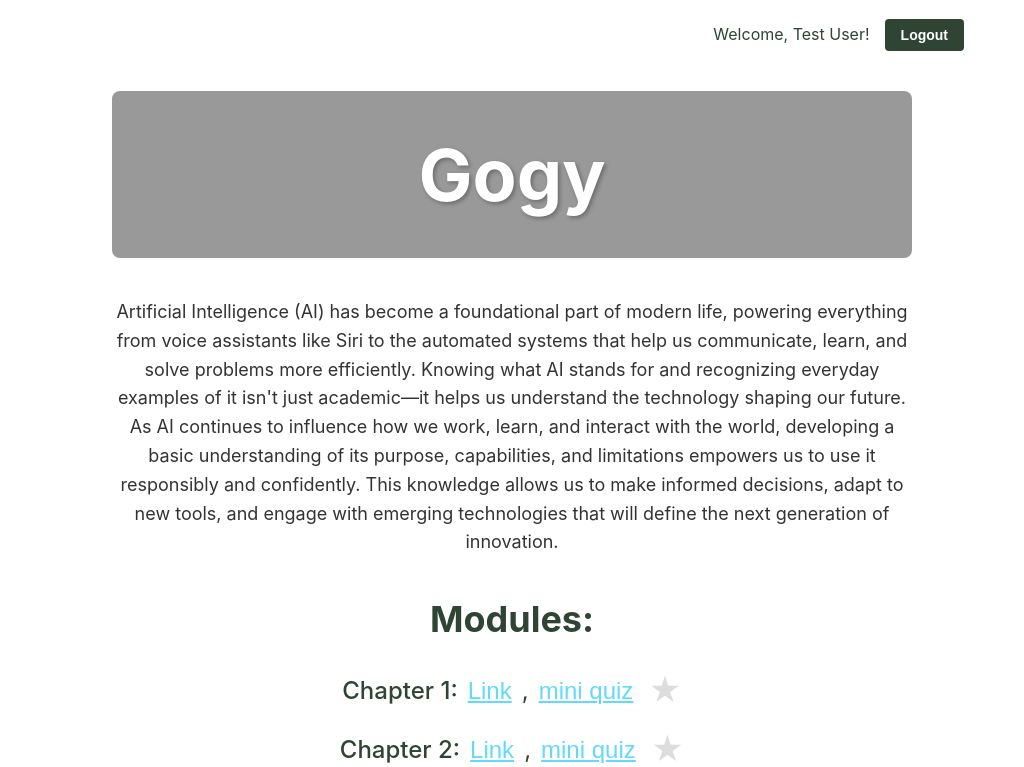
Test: Quiz Feature Tests › shows an explanation for an incorrect answer on the feedback page
Go to first mini quiz (Chapter 1)
Click the 1st button "mini quiz" at (586, 691), box [539,677,633,705]
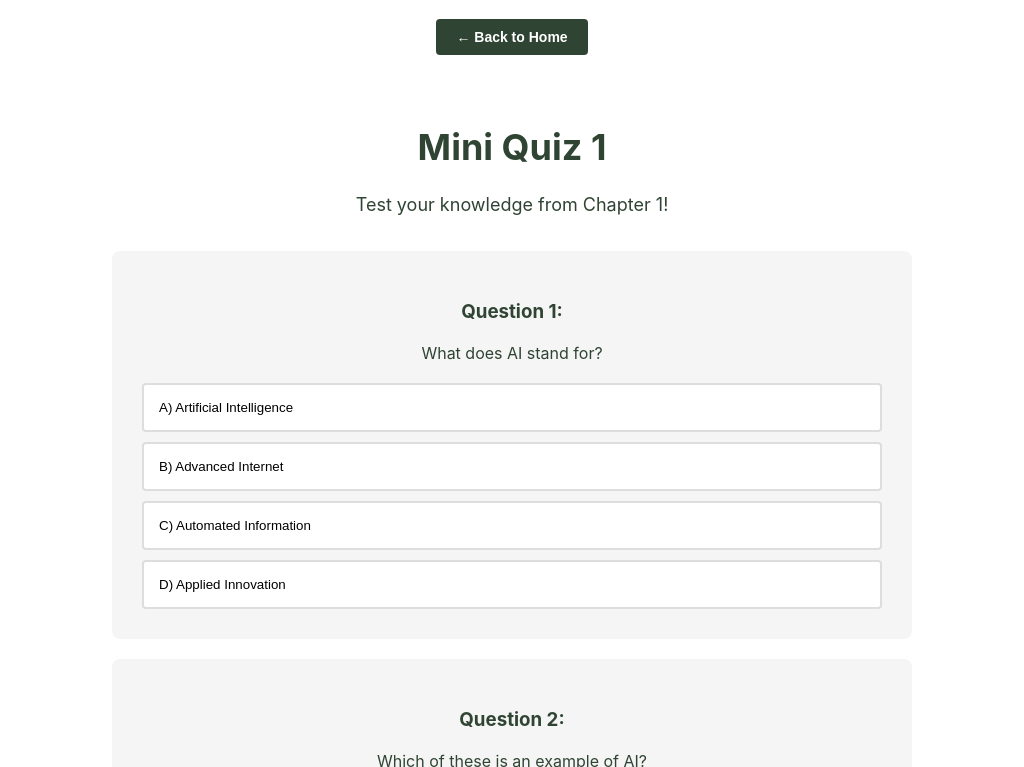
Answer Question 1 INCORRECTLY (correct is "A) Artificial Intelligence")
Click the button "B) Advanced Internet" at (229, 467), box [142,442,882,491]
(page scrolled)
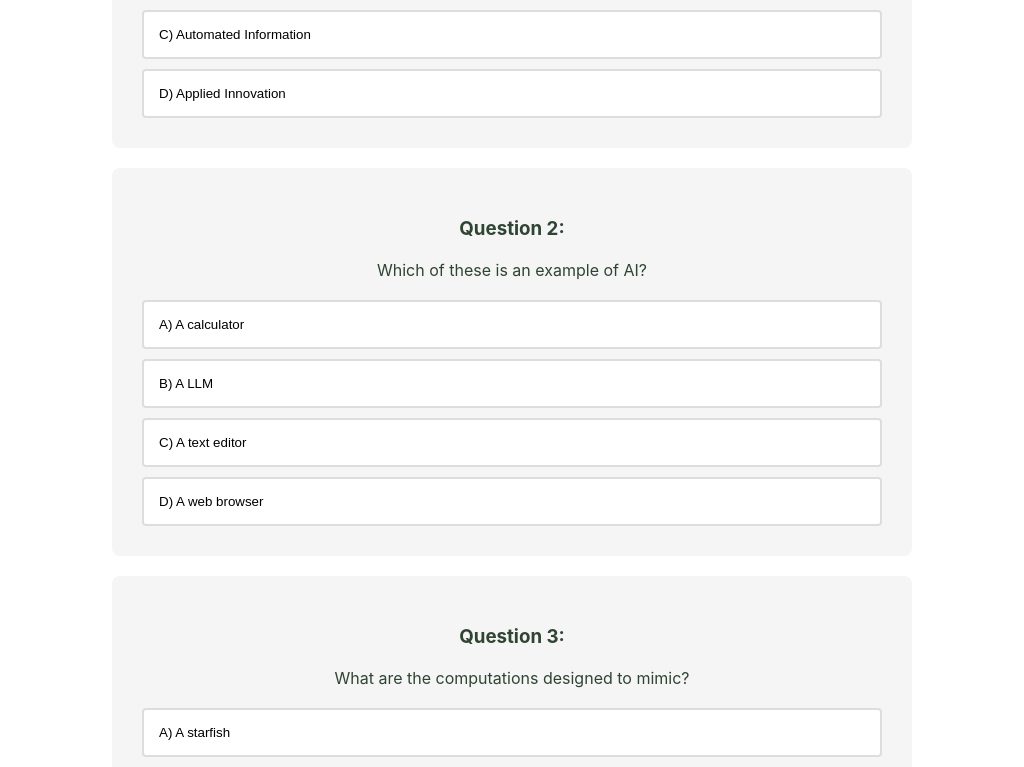
Answer Question 2 (can be correct or incorrect, doesn't matter)
Click the button "B) A LLM" at (194, 383), box [142,359,882,408]
(page scrolled)
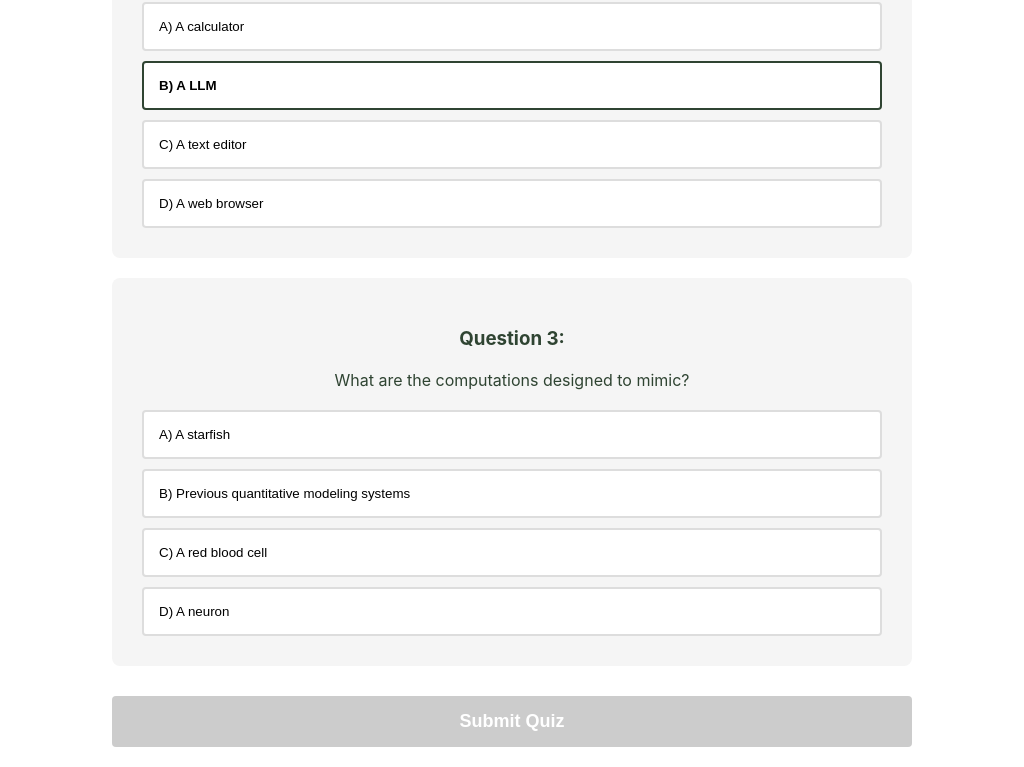
Answer Question 3 (can be correct)
Click the button "D) A neuron" at (203, 611), box [142,586,882,636]
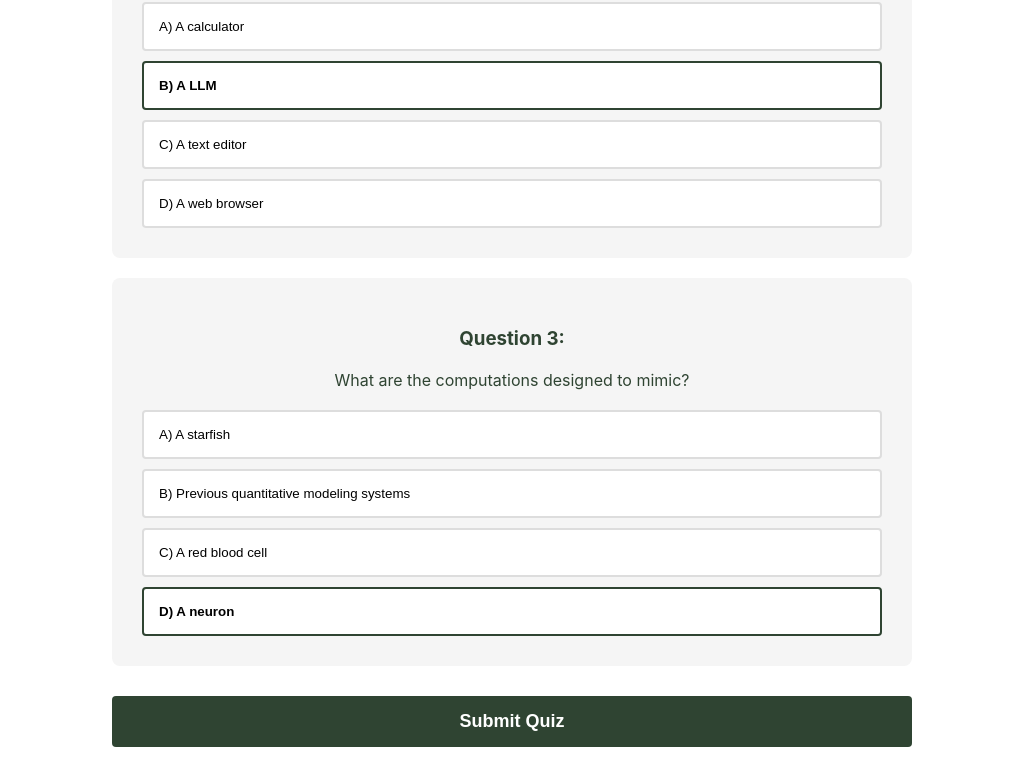
Submit quiz
Click the button "Submit Quiz" at (512, 721), box [112,696,912,746]
(page scrolled)
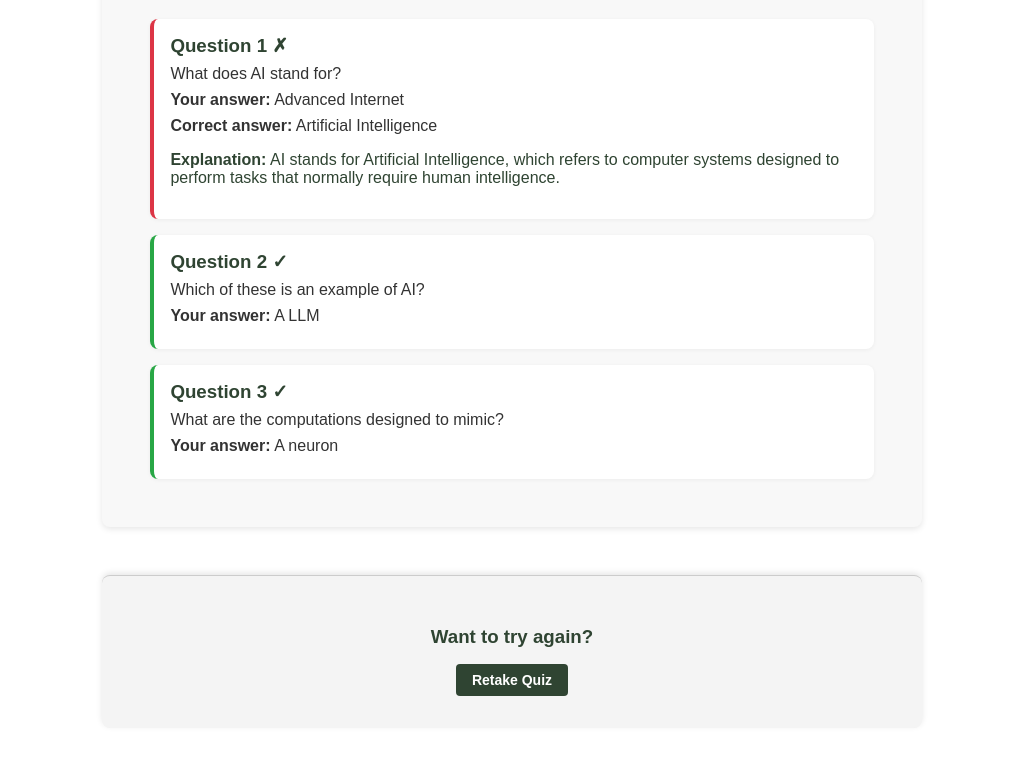
Expected: the text "Explanation:" is shown, [170,151,266,168]
Expected: the text "AI stands for Artificial Intelligence" is shown, [170,151,839,186]
